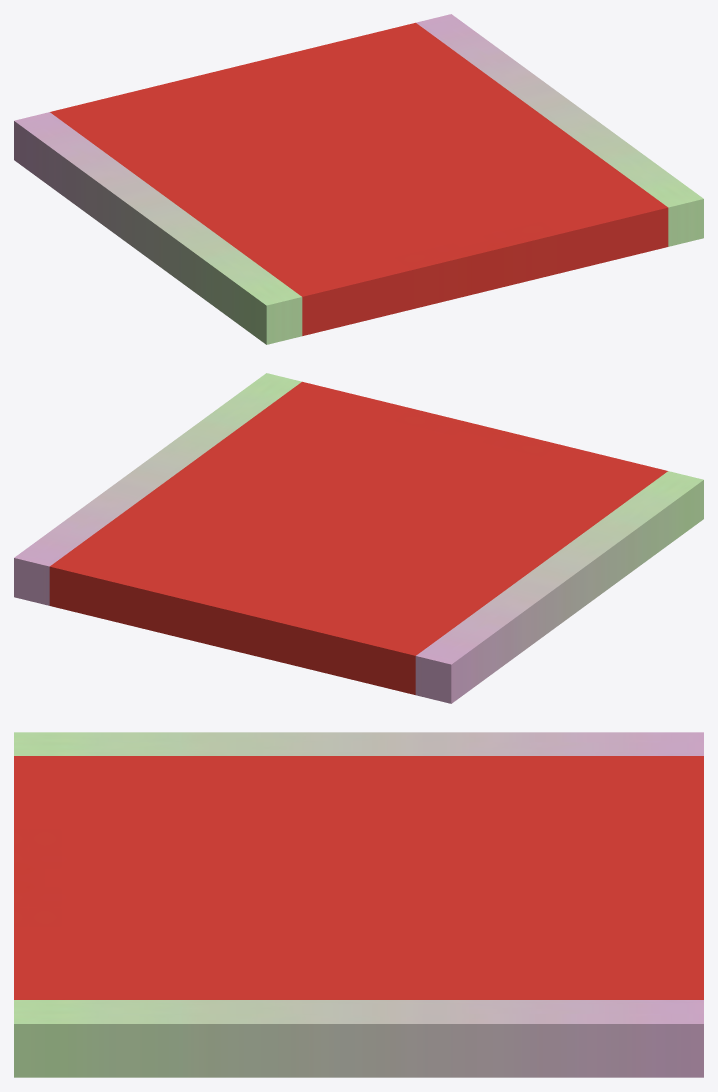
Rendered from platform1.fbx.
The picture shows the model from 3 angles, top to bottom: view 1: azimuth 30°, elevation 25°; view 2: azimuth 150°, elevation 25°; view 3: azimuth 270°, elevation 25°; orthographic projection. The views are drawn at different scales.
Visible parts, largest first — view 1: Plane; view 2: Plane; view 3: Plane.
Part boxes in pixels (x1,y1,x2,y2): Plane: [14, 14, 703, 344]; Plane: [14, 373, 703, 703]; Plane: [14, 732, 703, 1077].
Size of the model in its own units: 400 by 34.38 by 400.
